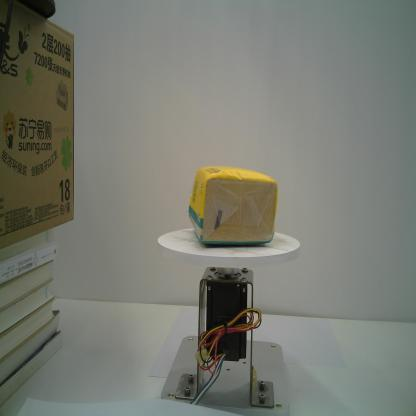Tissue: (188, 163, 278, 248)
